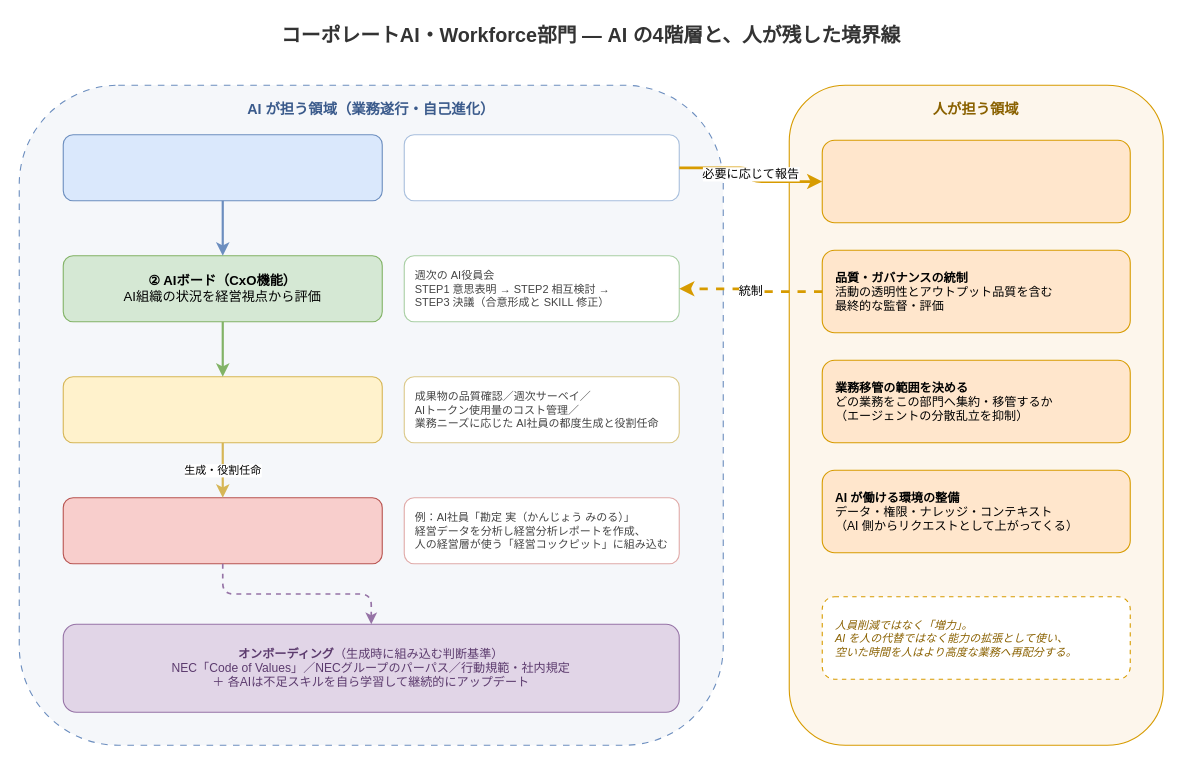
This 1183x765 diagram has some shape labels left out. The shapes that lost their labels are listed below. From the top down, each one's box as (x1, y1, x2, y2) in pixels, then its label:
(62, 134, 382, 201): ① AI部門長 組織全体の稼働状況を把握・管理
(403, 134, 679, 201): 「AI統合マネジメントコックピット」 日次稼働状況／リードタイム／AIコスト／ 品質／リスクアラートをデジタルツイン上で可視化
(821, 139, 1130, 223): 最終的な評価・意思決定 AI が提示した分析結果や示唆をもとに 人の経営層が決める
(62, 376, 382, 443): ③ AIマネージャー 業務を品質・コスト等の観点から横断管理
(62, 497, 382, 564): ④ AI社員 各タスクを遂行
